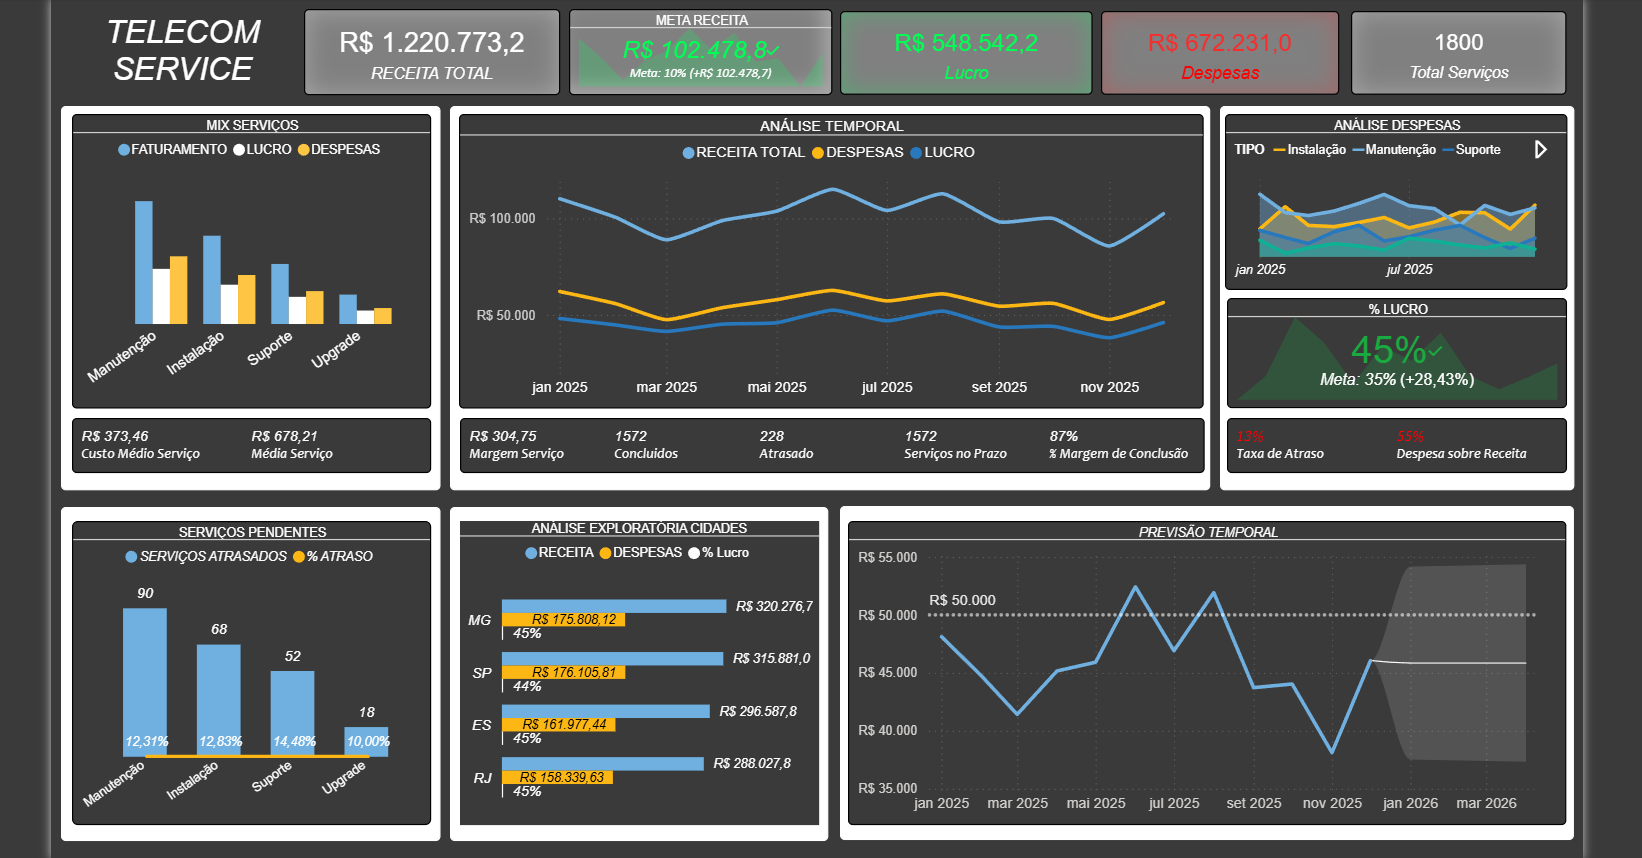

This screenshot's page, from the dashboard's own definition file:
{"tool":"powerbi","page":{"name":"ÁREA ANALÍTICA","canvas":[1280,720],"ordinal":0},"visuals":[{"type":"card","fields":{"Values":["Medidas.Faturamento"]},"box":[211,8.9,213.7,71.8],"z":0},{"type":"card","fields":{"Values":["Medidas.Despesas"]},"box":[876.9,10.6,198.6,70],"z":1000},{"type":"card","fields":{"Values":["Medidas.Lucro"]},"box":[658.8,10.6,211,70],"z":2000},{"type":"card","fields":{"Values":["Medidas.Total Serviços"]},"box":[1086.2,10.6,180,70],"z":3000},{"type":"shape","box":[333.6,90.5,635.1,321],"z":4000},{"type":"lineChart","title":"ANÁLISE TEMPORAL","fields":{"Y":["Medidas.Faturamento","Medidas.Despesas","Medidas.Lucro"],"Category":["Calendario.Ano Mês.Variation.Hierarquia de datas.Mês"]},"box":[340.4,97.3,621.5,246.1],"z":5000},{"type":"multiRowCard","fields":{"Values":["Medidas.Margem por Serviço","Medidas.Serviços Concluidos","Medidas.Serviços Em Atraso","Medidas.Serviços no Prazo","Medidas.% Margem de Conclusão"]},"box":[341.4,351.1,621.6,46.1],"z":6000},{"type":"shape","box":[8.8,90.5,317.1,321],"z":7000},{"type":"lineClusteredColumnComboChart","title":"MIX SERVIÇOS","fields":{"Category":["Dataset.Tipo_Servico"],"Y":["Medidas.Faturamento","Medidas.Lucro","Medidas.Despesas"]},"box":[17.5,97.3,299.6,246.1],"z":8000},{"type":"multiRowCard","fields":{"Values":["Medidas.Custo Médio por Serviço","Medidas.Ticket_Serviço"]},"box":[17.5,351.1,299.6,45.7],"z":9000},{"type":"shape","box":[976.5,90.5,295.7,321],"z":10000},{"type":"kpi","title":"% LUCRO","fields":{"Indicator":["Medidas.% Margem de Lucro"],"Goal":["Medidas.Meta"],"TrendLine":["Calendario.Mês Num"]},"box":[982.4,250.9,284,92.4],"z":11000},{"type":"multiRowCard","fields":{"Values":["Medidas.% Taxa de Atraso","Medidas.% Despesa sobre Faturamento"]},"box":[982.5,351.1,283.7,46.1],"z":12000},{"type":"shape","box":[8.8,425,317.1,279.1],"z":13000},{"type":"shape","box":[333.6,425,316.1,279.1],"z":15000},{"type":"clusteredBarChart","title":"ANÁLISE EXPLORATÓRIA CIDADES","fields":{"Category":["Dataset.Estado"],"Y":["Medidas.Faturamento","Medidas.Despesas","Medidas.% Margem de Lucro"]},"box":[341.4,437.1,299.7,253.6],"z":16000},{"type":"shape","box":[658.8,424.7,612.7,279.3],"z":17000},{"type":"lineClusteredColumnComboChart","title":"SERVIÇOS PENDENTES","fields":{"Category":["Dataset.Tipo_Servico"],"Y":["Medidas.Serviços Em Atraso"],"Y2":["Medidas.% Atraso"]},"box":[17.7,437.1,299.7,253.6],"z":18000},{"type":"textbox","box":[8.8,8.8,202.3,72],"z":21000},{"type":"lineChart","title":"PREVISÃO TEMPORAL","fields":{"Y":["Medidas.Lucro"],"Category":["Calendario.Ano Mês"]},"box":[665.9,437.1,600.3,253.6],"z":21001},{"type":"lineChart","title":"ANÁLISE DESPESAS","fields":{"Y":["Medidas.Despesas"],"Category":["Calendario.Ano Mês"],"Series":["Dataset.Tipo_Servico"]},"box":[980.4,97.3,286,146.9],"z":21002},{"type":"kpi","title":"META RECEITA","fields":{"Indicator":["Medidas.Faturamento"],"Goal":["Medidas.% Meta Receita"],"TrendLine":["Calendario.Ano Mês"]},"box":[432.7,8.9,219.9,71.8],"z":21003}]}

Visuals, with their boxes on the page's 1280x720 design canvas (x1, y1, x2, y2). These are canvas units, not pixel positions in the 1642x858 screenshot, which may show the page scaled, cropped or inside an application window:
card - Medidas.Faturamento: detection(211, 9, 425, 81)
card - Medidas.Despesas: detection(877, 11, 1076, 81)
card - Medidas.Lucro: detection(659, 11, 870, 81)
card - Medidas.Total Serviços: detection(1086, 11, 1266, 81)
shape: detection(334, 90, 969, 412)
"ANÁLISE TEMPORAL" lineChart: detection(340, 97, 962, 343)
multiRowCard - Medidas.Margem por Serviço x Medidas.Serviços Concluidos: detection(341, 351, 963, 397)
shape: detection(9, 90, 326, 412)
"MIX SERVIÇOS" lineClusteredColumnComboChart: detection(18, 97, 317, 343)
multiRowCard - Medidas.Custo Médio por Serviço x Medidas.Ticket_Serviço: detection(18, 351, 317, 397)
shape: detection(976, 90, 1272, 412)
"% LUCRO" kpi: detection(982, 251, 1266, 343)
multiRowCard - Medidas.% Taxa de Atraso x Medidas.% Despesa sobre Faturamento: detection(982, 351, 1266, 397)
shape: detection(9, 425, 326, 704)
shape: detection(334, 425, 650, 704)
"ANÁLISE EXPLORATÓRIA CIDADES" clusteredBarChart: detection(341, 437, 641, 691)
shape: detection(659, 425, 1272, 704)
"SERVIÇOS PENDENTES" lineClusteredColumnComboChart: detection(18, 437, 317, 691)
textbox: detection(9, 9, 211, 81)
"PREVISÃO TEMPORAL" lineChart: detection(666, 437, 1266, 691)
"ANÁLISE DESPESAS" lineChart: detection(980, 97, 1266, 244)
"META RECEITA" kpi: detection(433, 9, 653, 81)
